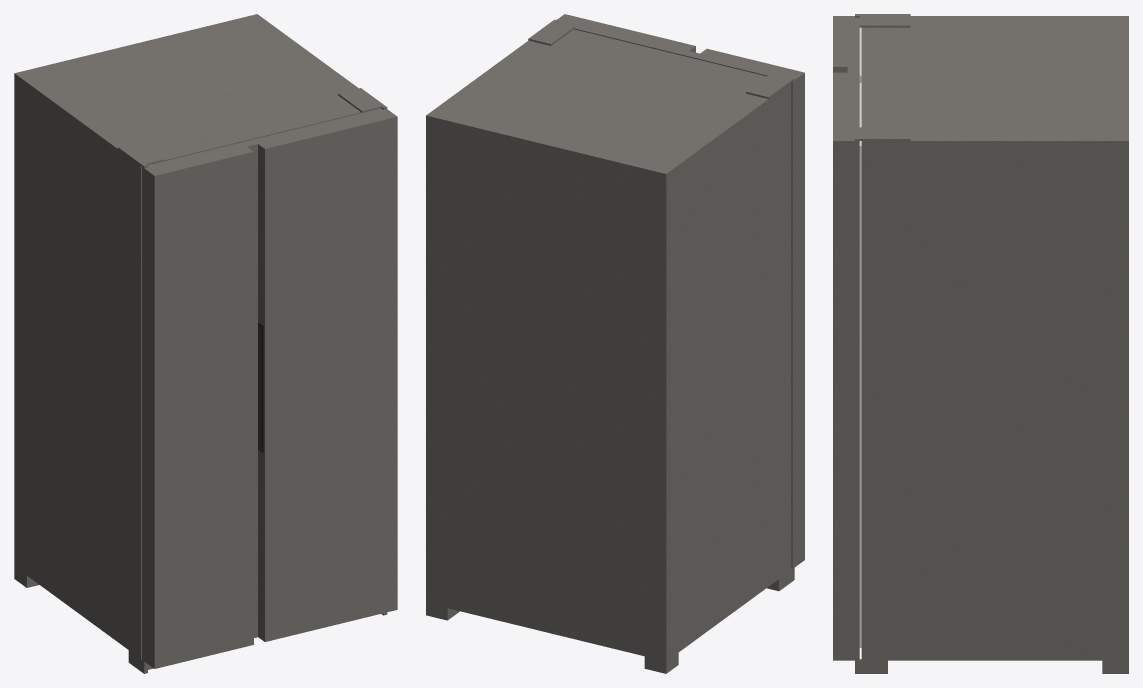
Rendered from Refrigerator03.fbx.
3 views of the same model, side by side, from view 1: azimuth 30°, elevation 25°; view 2: azimuth 150°, elevation 25°; view 3: azimuth 270°, elevation 25° (orthographic). The views are drawn at different scales.
Parts seen in each view (by area): view 1: Refrigerator03, Refrigerator03_Door01, Refrigerator03_Door02; view 2: Refrigerator03, Refrigerator03_Door02, Refrigerator03_Door01; view 3: Refrigerator03, Refrigerator03_Door01, Refrigerator03_Door02.
Part boxes in pixels (x1,y1,x2,y2): Refrigerator03: (14,14,387,673); Refrigerator03_Door01: (247,108,397,641); Refrigerator03_Door02: (142,141,253,668); Refrigerator03: (426,19,794,673); Refrigerator03_Door02: (689,48,804,568); Refrigerator03_Door01: (556,14,695,57); Refrigerator03: (855,14,1128,673); Refrigerator03_Door01: (833,70,861,660); Refrigerator03_Door02: (833,16,861,82).
Bounding box in the file's own units: 92.87 × 185 × 92.87.
